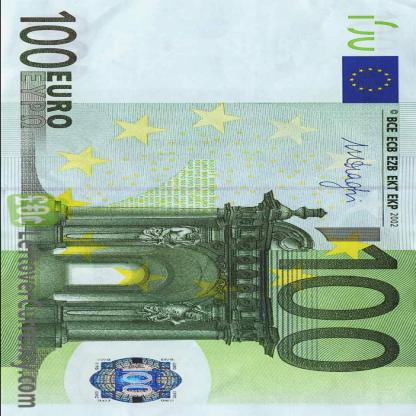euro_banknote: (3, 4, 415, 413)
